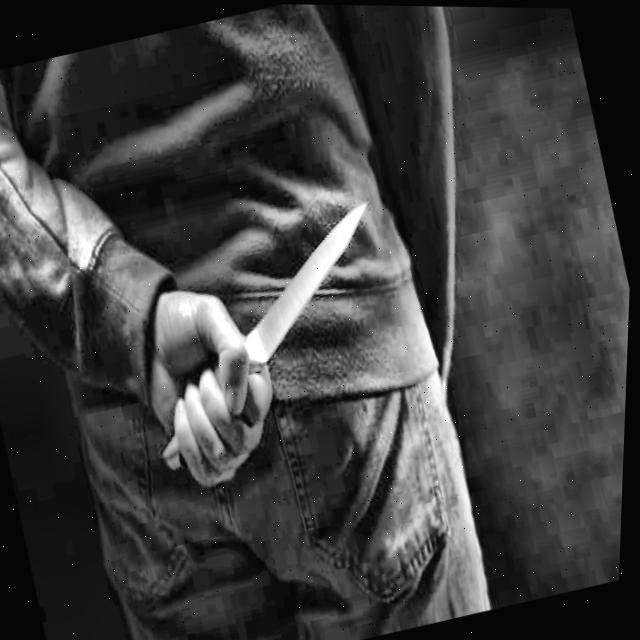pisau: (148, 189, 375, 492)
